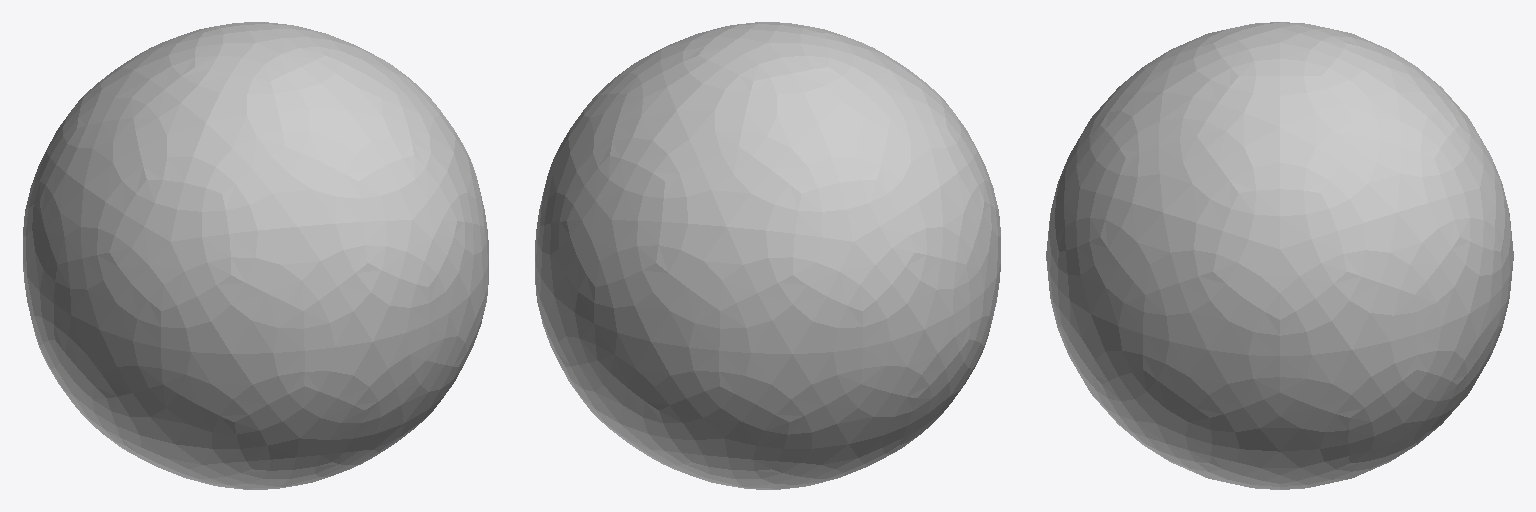
Rendered from sphere_smooth.obj.
3 renders of one model, left to right at view 1: azimuth 30°, elevation 25°; view 2: azimuth 150°, elevation 25°; view 3: azimuth 270°, elevation 25°, orthographic.
Parts seen in each view (by area): view 1: Icosphere_Material.001; view 2: Icosphere_Material.001; view 3: Icosphere_Material.001.
Boxes of the visible parts, box(x1,y1,x2,y2) form: Icosphere_Material.001: box(23, 22, 488, 489); Icosphere_Material.001: box(535, 22, 1000, 489); Icosphere_Material.001: box(1046, 22, 1513, 489).
Size of the model in its own units: 1.85 by 1.86 by 1.85.